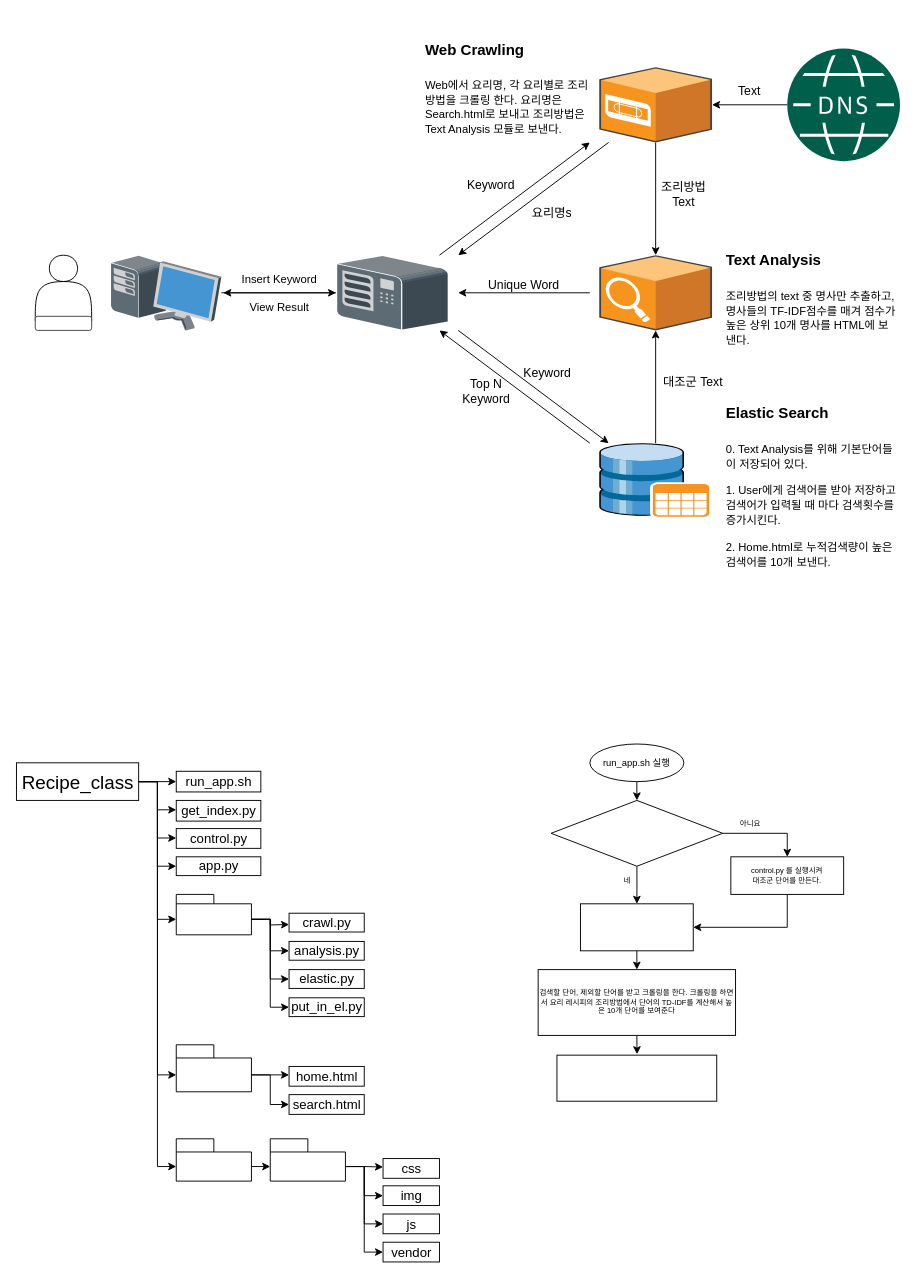
Image size: 917x1278. Some labels were removed from this diagram. The box of each missing label's shape, as (x1, y1, x2, y2) in pixels:
assets: (269, 1138, 345, 1181)
elastic.py 를 통해 검색량이 높은 단어를 가져오고 home.html 을 실행: (580, 903, 693, 951)
progpkg: (175, 893, 251, 935)
static: (175, 1138, 251, 1181)
templates: (175, 1044, 251, 1092)
User: (34, 315, 92, 330)
대조군 단어가 있는가? (get_index.py 실행): (550, 799, 723, 866)
요리 상자를 클릭하면 하이퍼링크를 통해 자세한 요리 레시피를 보여준다: (556, 1054, 717, 1101)
